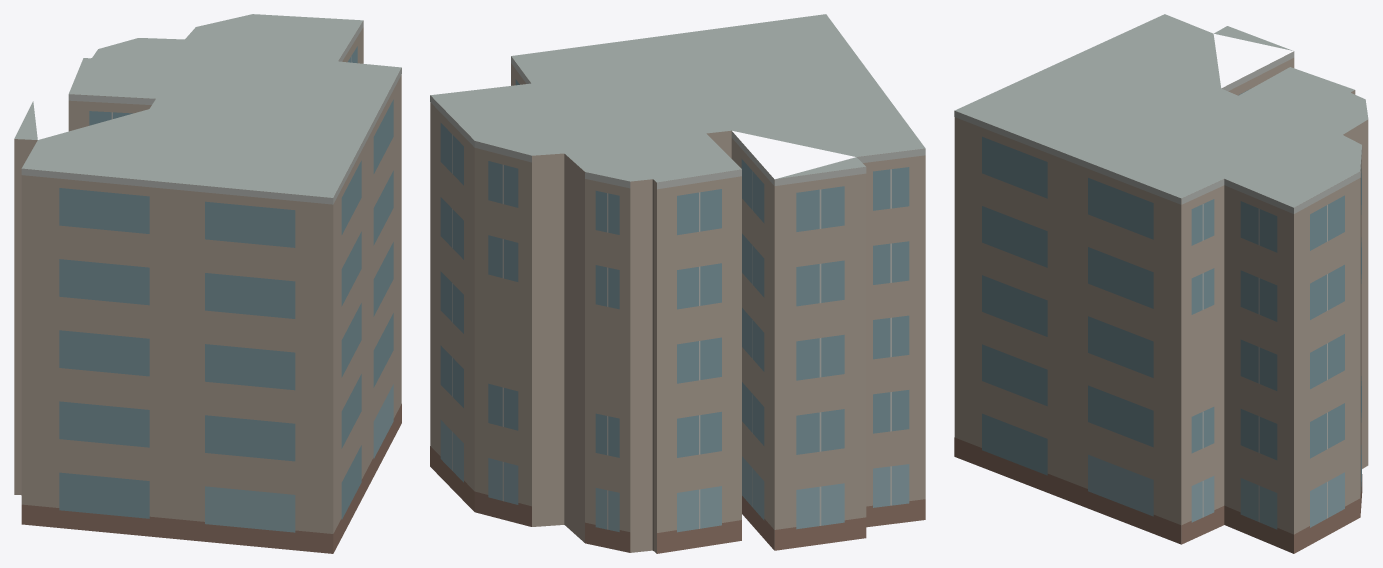
Rendered from survey-upis-32941149.glb.
3 views of the same model, side by side, from view 1: azimuth 30°, elevation 25°; view 2: azimuth 150°, elevation 25°; view 3: azimuth 270°, elevation 25° (orthographic). The views are drawn at different scales.
Visible parts, largest first — view 1: survey-upis-32941149.tmp; view 2: survey-upis-32941149.tmp; view 3: survey-upis-32941149.tmp.
Part boxes in pixels (box(x1,y1,x2,y2)): survey-upis-32941149.tmp: box(14, 14, 401, 553); survey-upis-32941149.tmp: box(430, 14, 925, 553); survey-upis-32941149.tmp: box(954, 14, 1368, 553).
Bounding box in the file's own units: 15.86 × 13.2 × 14.32.
